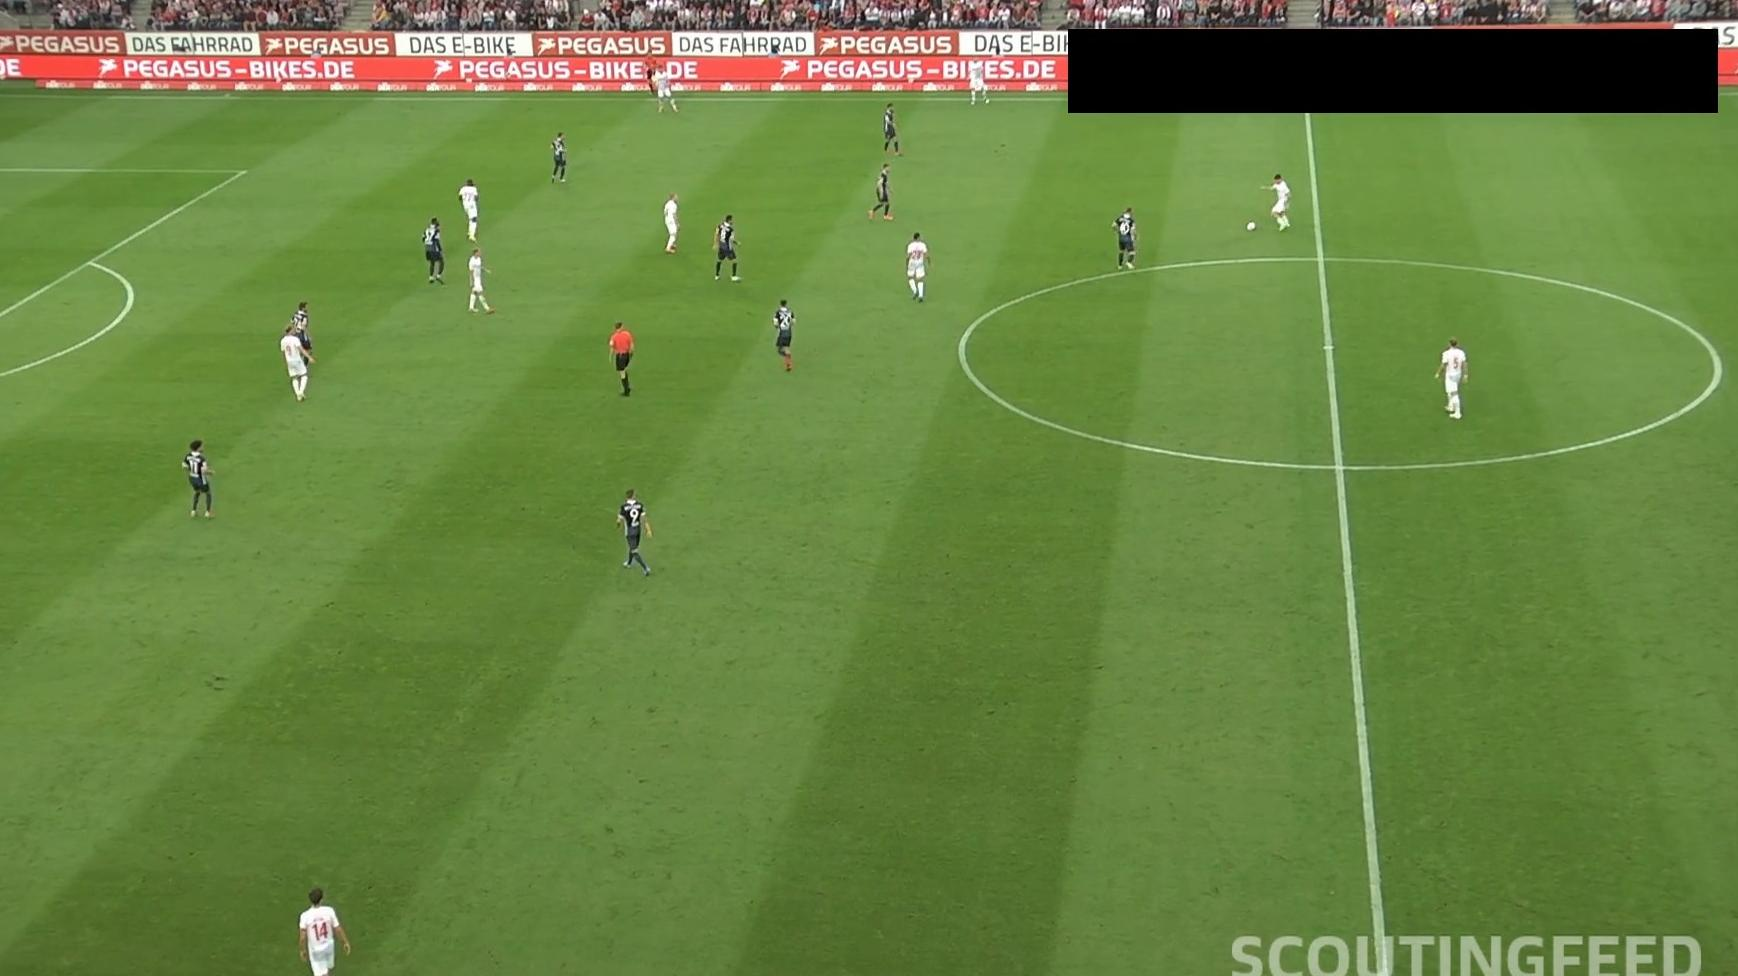ball: (1244, 221, 1257, 233)
